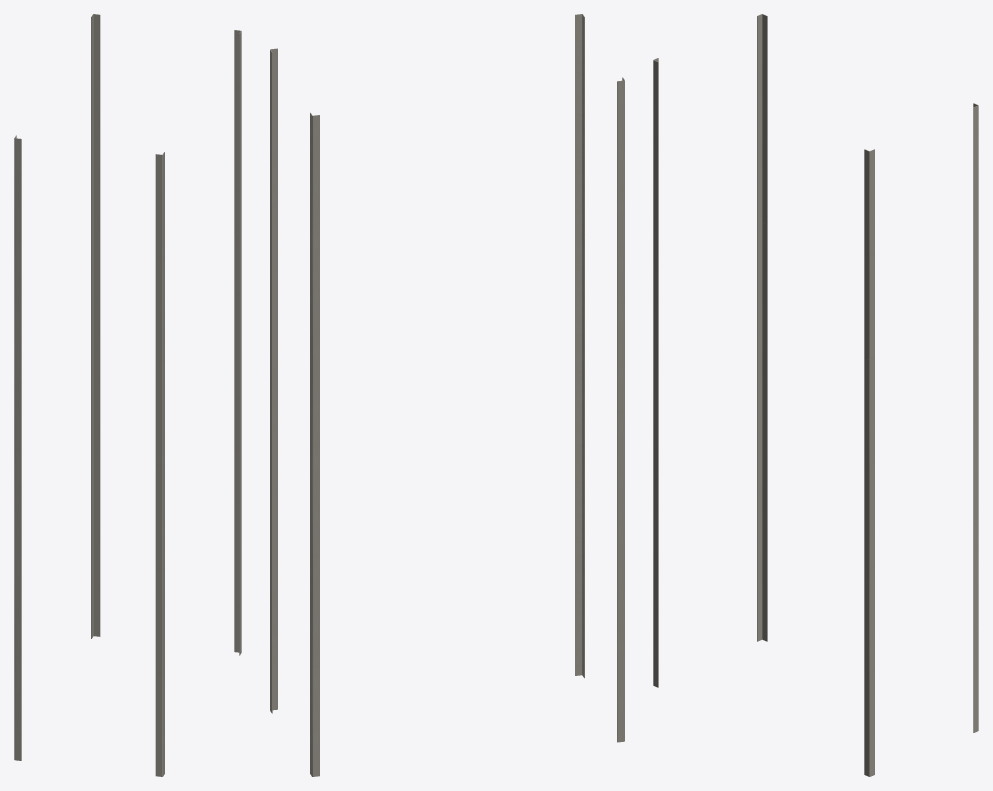
File: shelf_0301_t50_h1800_w800.glb
The picture shows the model from 3 angles, left to right: view 1: azimuth 30°, elevation 25°; view 2: azimuth 150°, elevation 25°; view 3: azimuth 270°, elevation 25°; orthographic projection. The views are drawn at different scales.
Parts seen in each view (by area): view 1: shelf_0301_t50_h1800_w800; view 2: shelf_0301_t50_h1800_w800; view 3: shelf_0301_t50_h1800_w800.
Boxes of the visible parts, x1,y1,x2,y2 form: shelf_0301_t50_h1800_w800: (14,14,241,776); shelf_0301_t50_h1800_w800: (270,14,624,776); shelf_0301_t50_h1800_w800: (653,14,978,776).
Size of the model in its own units: 0.8487 by 1.8 by 0.8487.
1 material, 1 textured.
